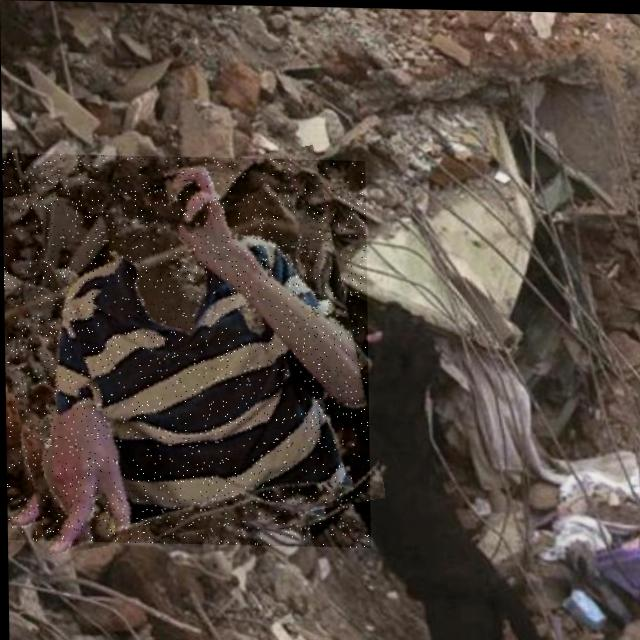Person in Rubble: (2, 153, 369, 546)
